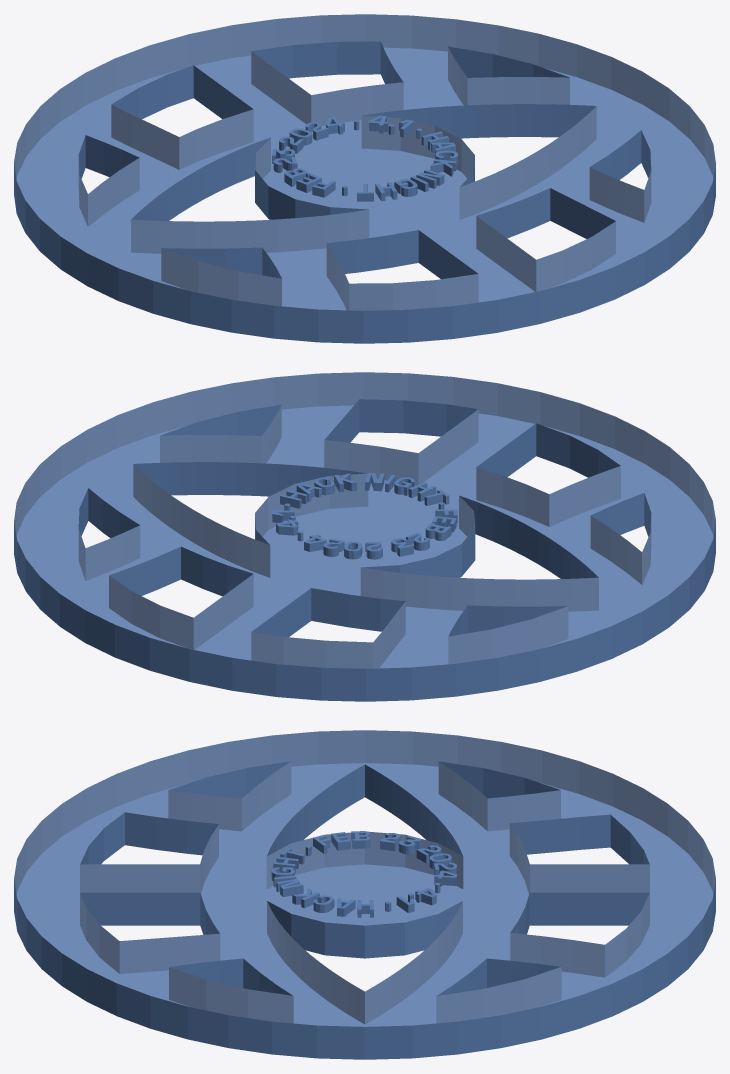
File: badge4.1-flat.glb
3 views of the same model, one above another, from view 1: azimuth 30°, elevation 25°; view 2: azimuth 150°, elevation 25°; view 3: azimuth 270°, elevation 25° (orthographic).
Parts seen in each view (by area): view 1: mesh.001; view 2: mesh.001; view 3: mesh.001.
Part boxes in pixels (bbox=[...]): mesh.001: bbox=[14, 14, 715, 343]; mesh.001: bbox=[14, 372, 715, 701]; mesh.001: bbox=[14, 730, 715, 1059].
Bounding box in the file's own units: 0.0773 × 0.005 × 0.0773.
